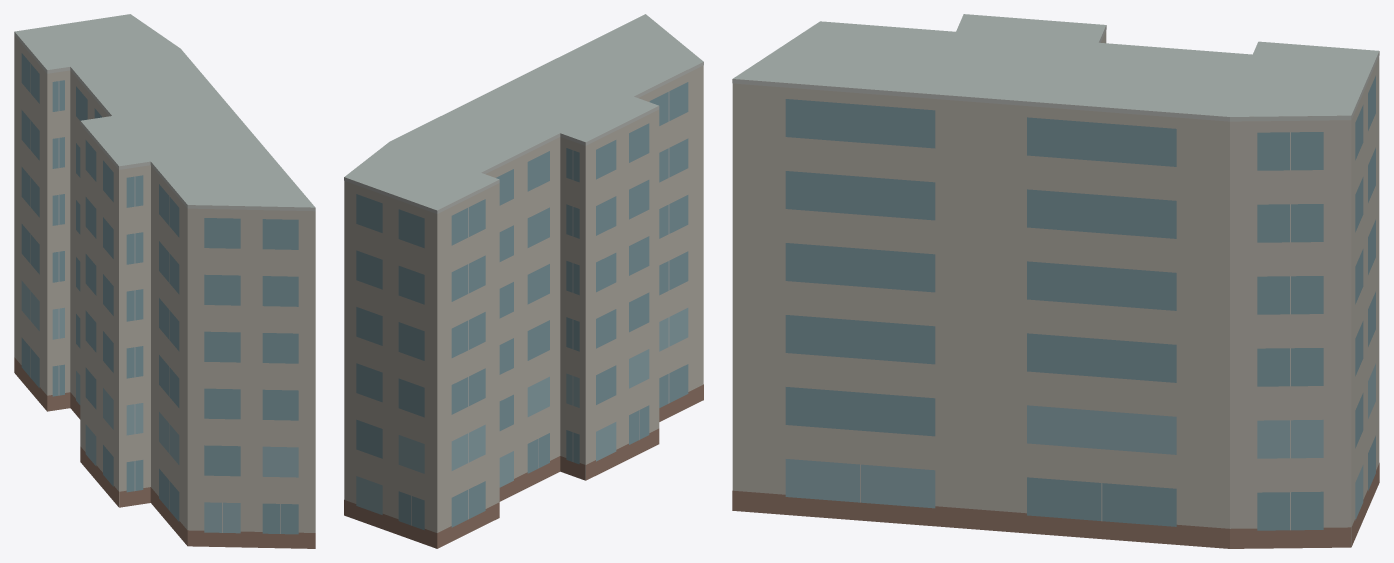
Rendered from survey-upis-32586511.glb.
The picture shows the model from 3 angles, left to right: view 1: azimuth 30°, elevation 25°; view 2: azimuth 150°, elevation 25°; view 3: azimuth 270°, elevation 25°; orthographic projection. The views are drawn at different scales.
Parts seen in each view (by area): view 1: survey-upis-32586511.tmp; view 2: survey-upis-32586511.tmp; view 3: survey-upis-32586511.tmp.
Boxes of the visible parts, box(x1,y1,x2,y2) form: survey-upis-32586511.tmp: box(14, 14, 315, 548); survey-upis-32586511.tmp: box(344, 14, 703, 548); survey-upis-32586511.tmp: box(732, 14, 1379, 548).
Size of the model in its own units: 11.72 by 22.9 by 31.1.
